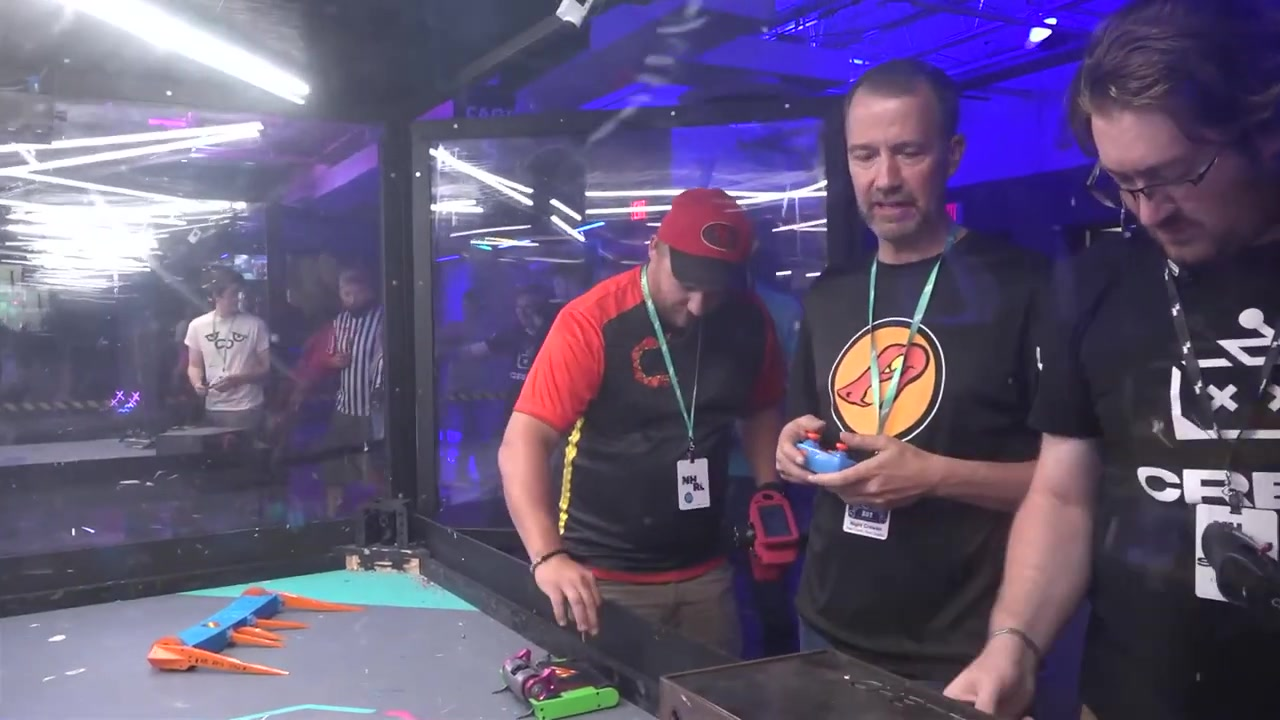combatbot: (146, 586, 282, 678), (494, 647, 621, 720)
housebot: (657, 647, 992, 720)
